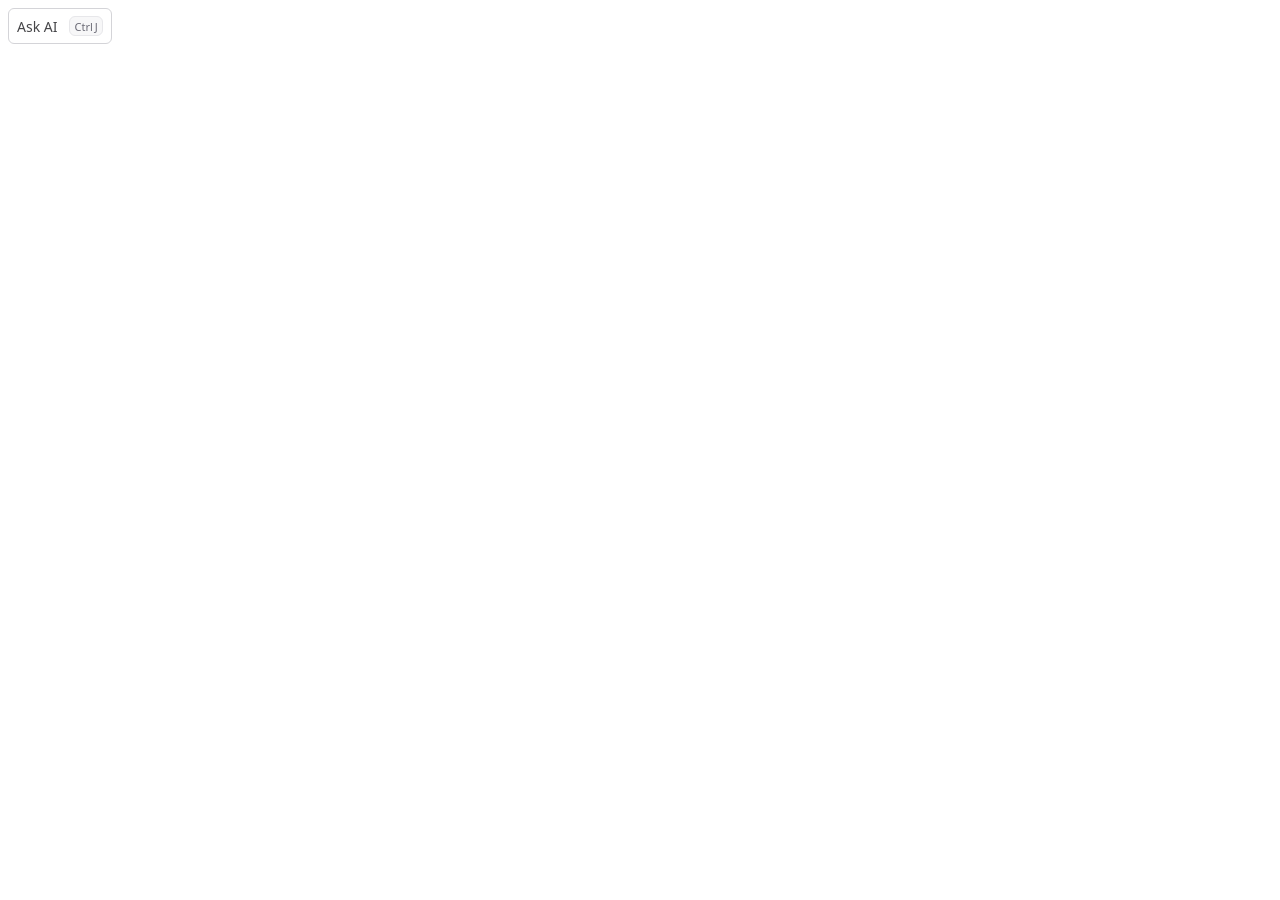
Test: hides the panel with the keyboard from its minimum width
Later steps or results of the test are not shown.
Click the button "Ask AI Ctrl J" at (60,26), box [8,8,112,44]
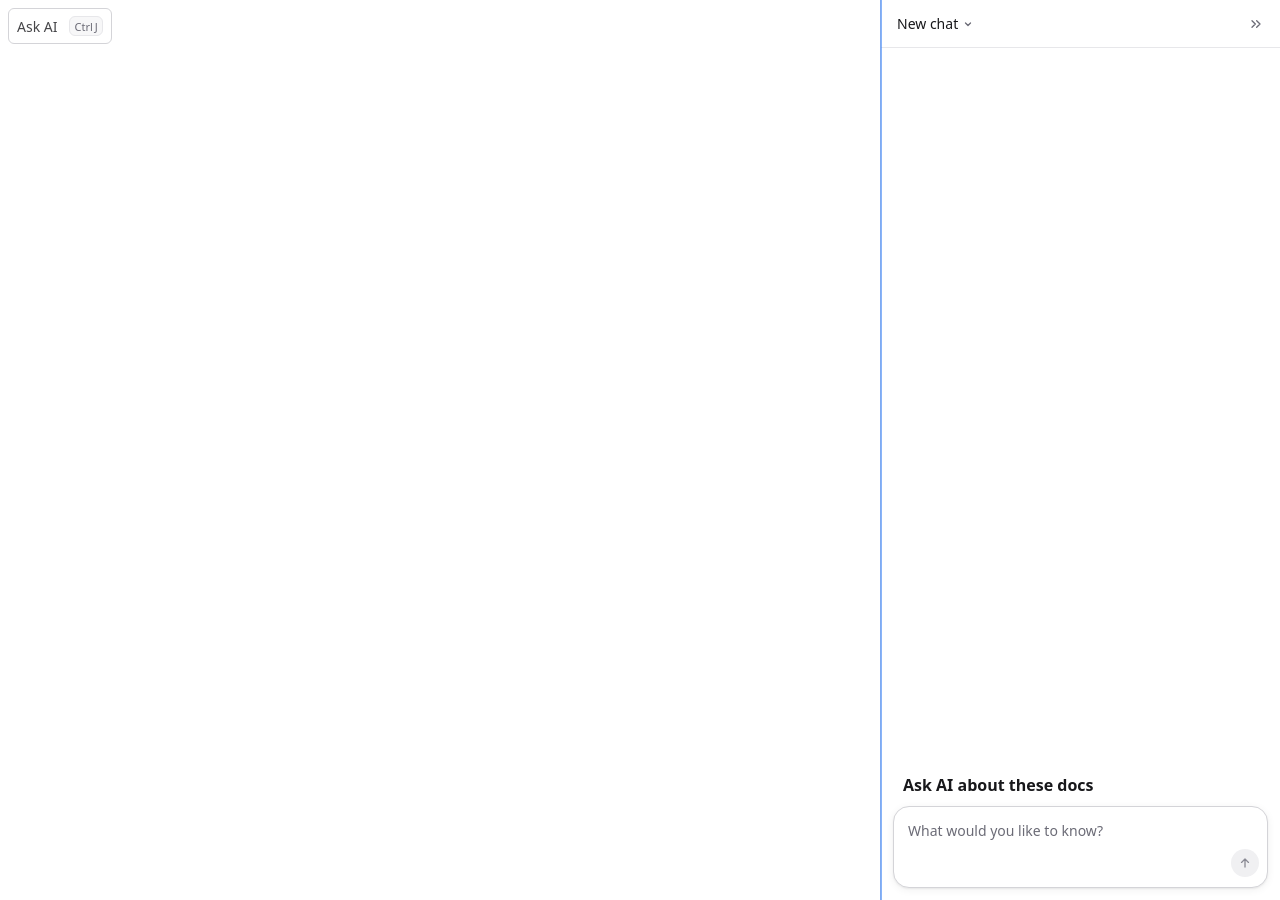
Press Home
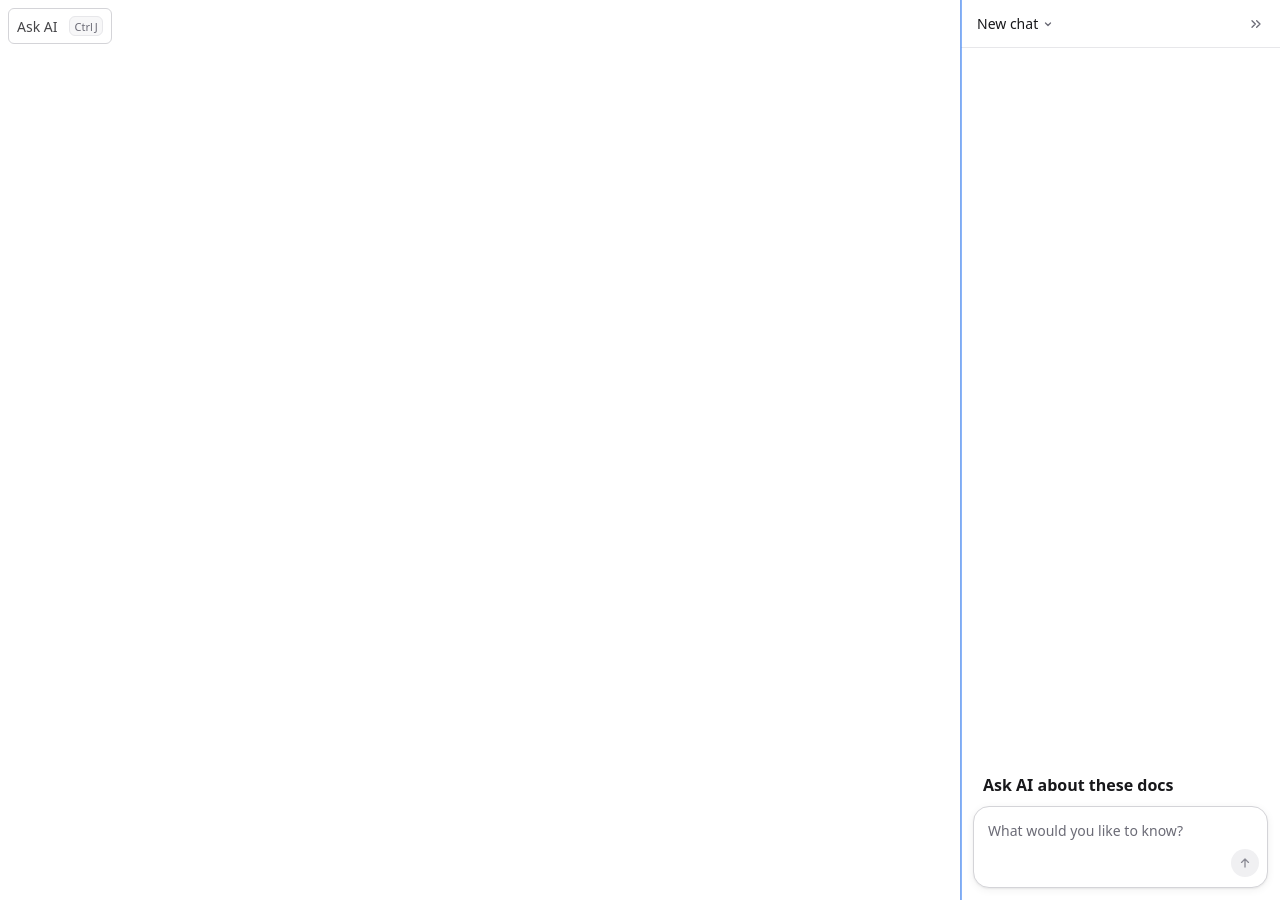
Now the element named "Resize Ask AI" has attribute aria-valuenow="320"
Press ArrowRight in the element named "Resize Ask AI", box [957,0,969,899]
Press Arrowleft
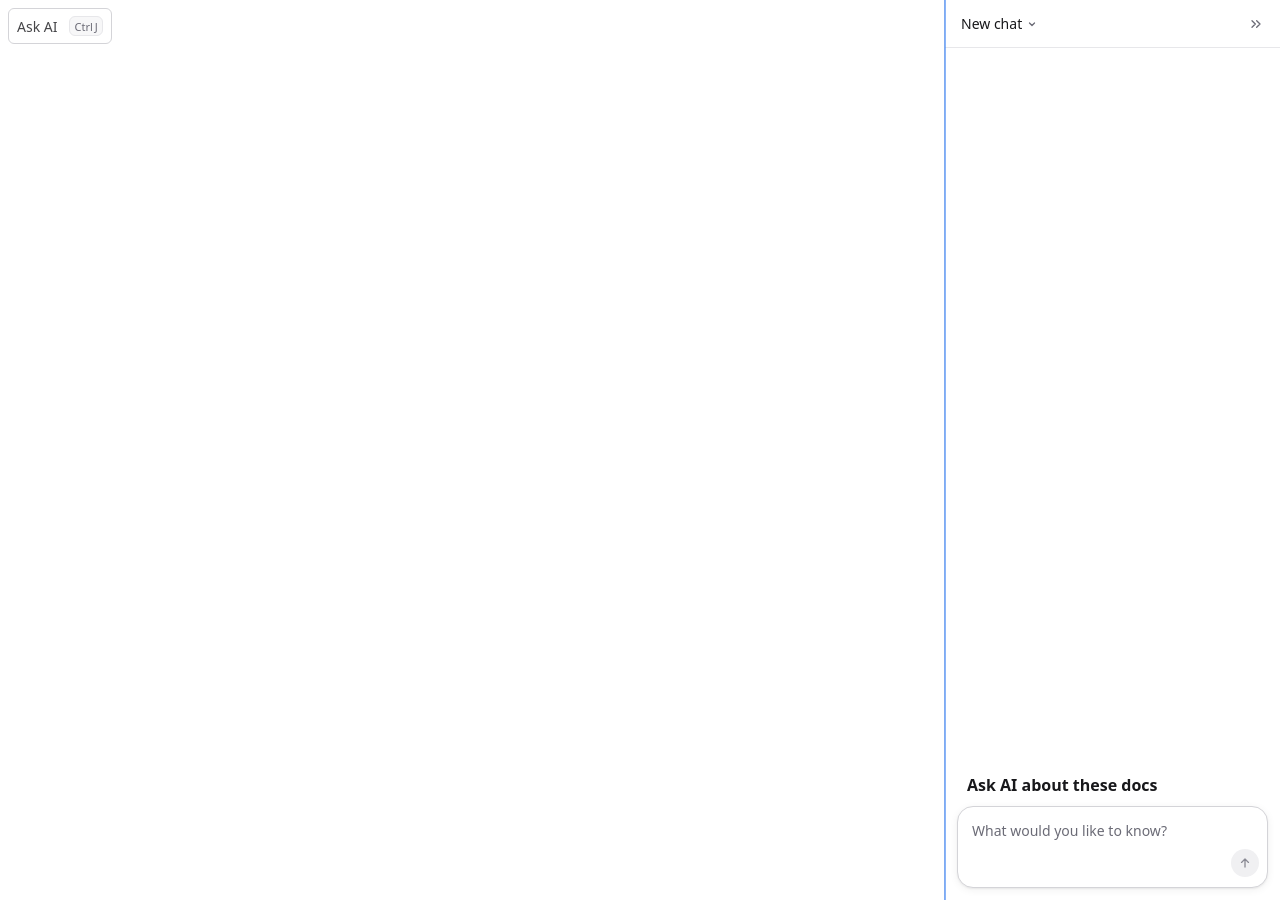
Now the element named "Resize Ask AI" has attribute aria-valuenow="336", box [941,0,953,899]
Press Home Arrowright
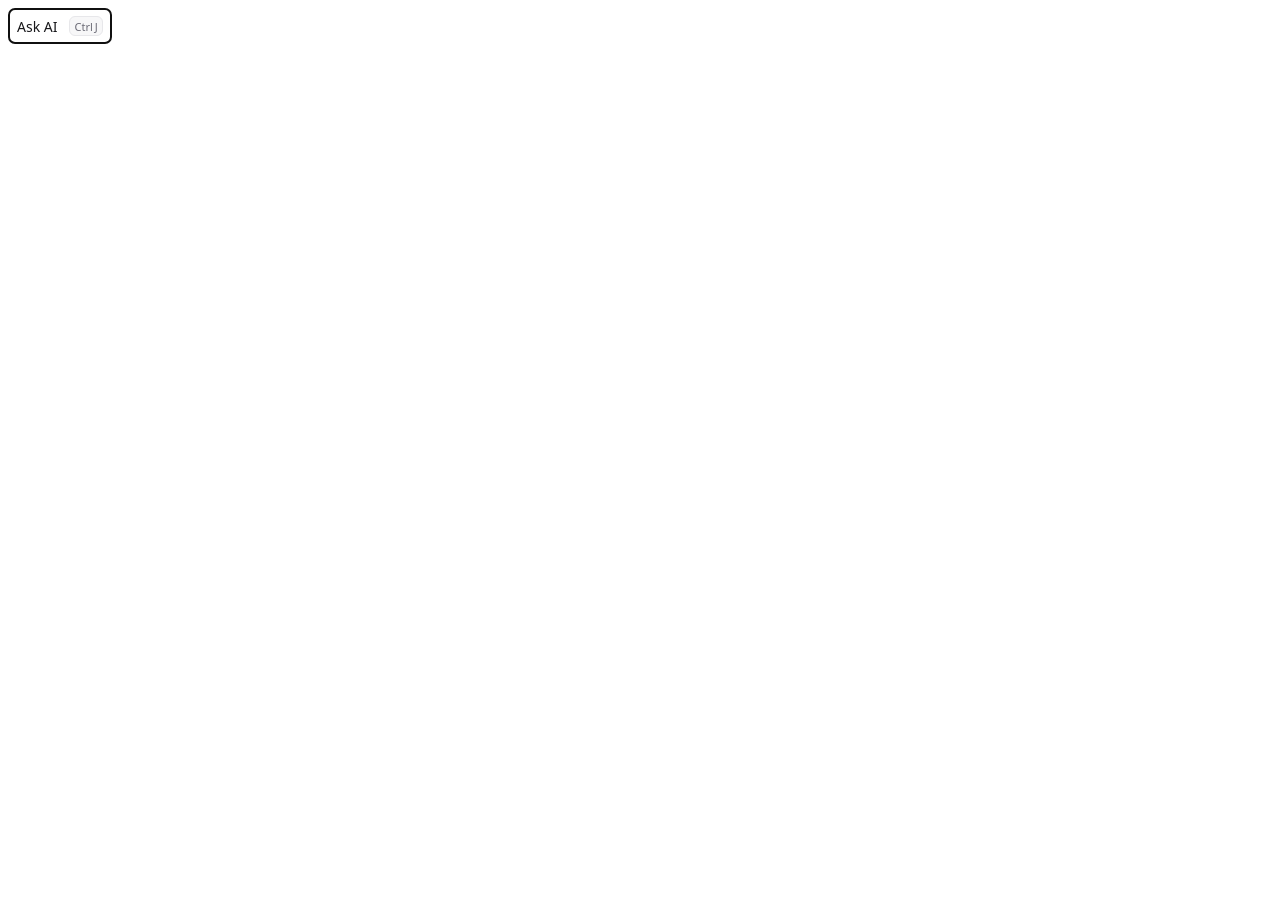
Now the button "Ask AI Ctrl J" is collapsed, box [8,8,112,44]
